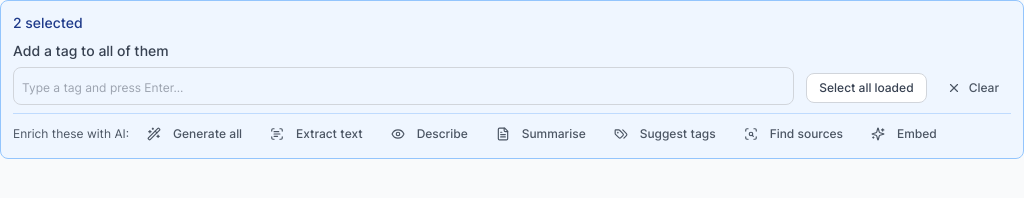
Test: SelectionBar enrichment › treats a missing embedder as the same kind of signpost
What coordinates should you click on to do the following:
click the button "Embed"
I would click on:
 (904, 134)
Its box is 861,122 -> 947,146.
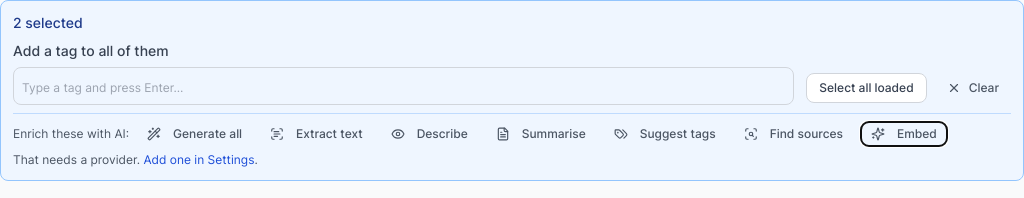
Result: the link "Add one in Settings" is shown at 143,152 -> 254,167
